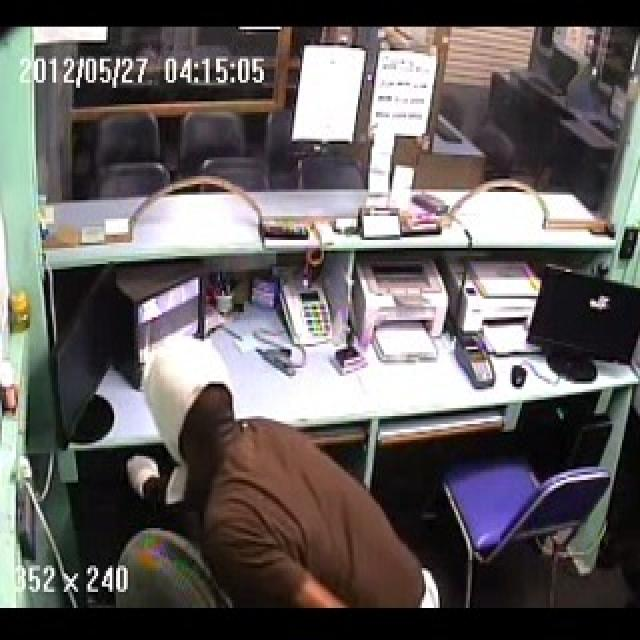thief: (109, 334, 452, 608)
